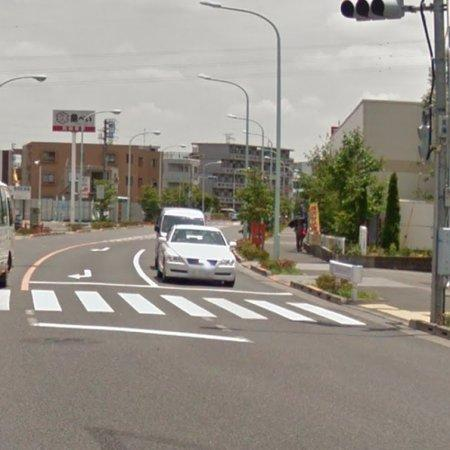crosswalks: (0, 288, 363, 324)
